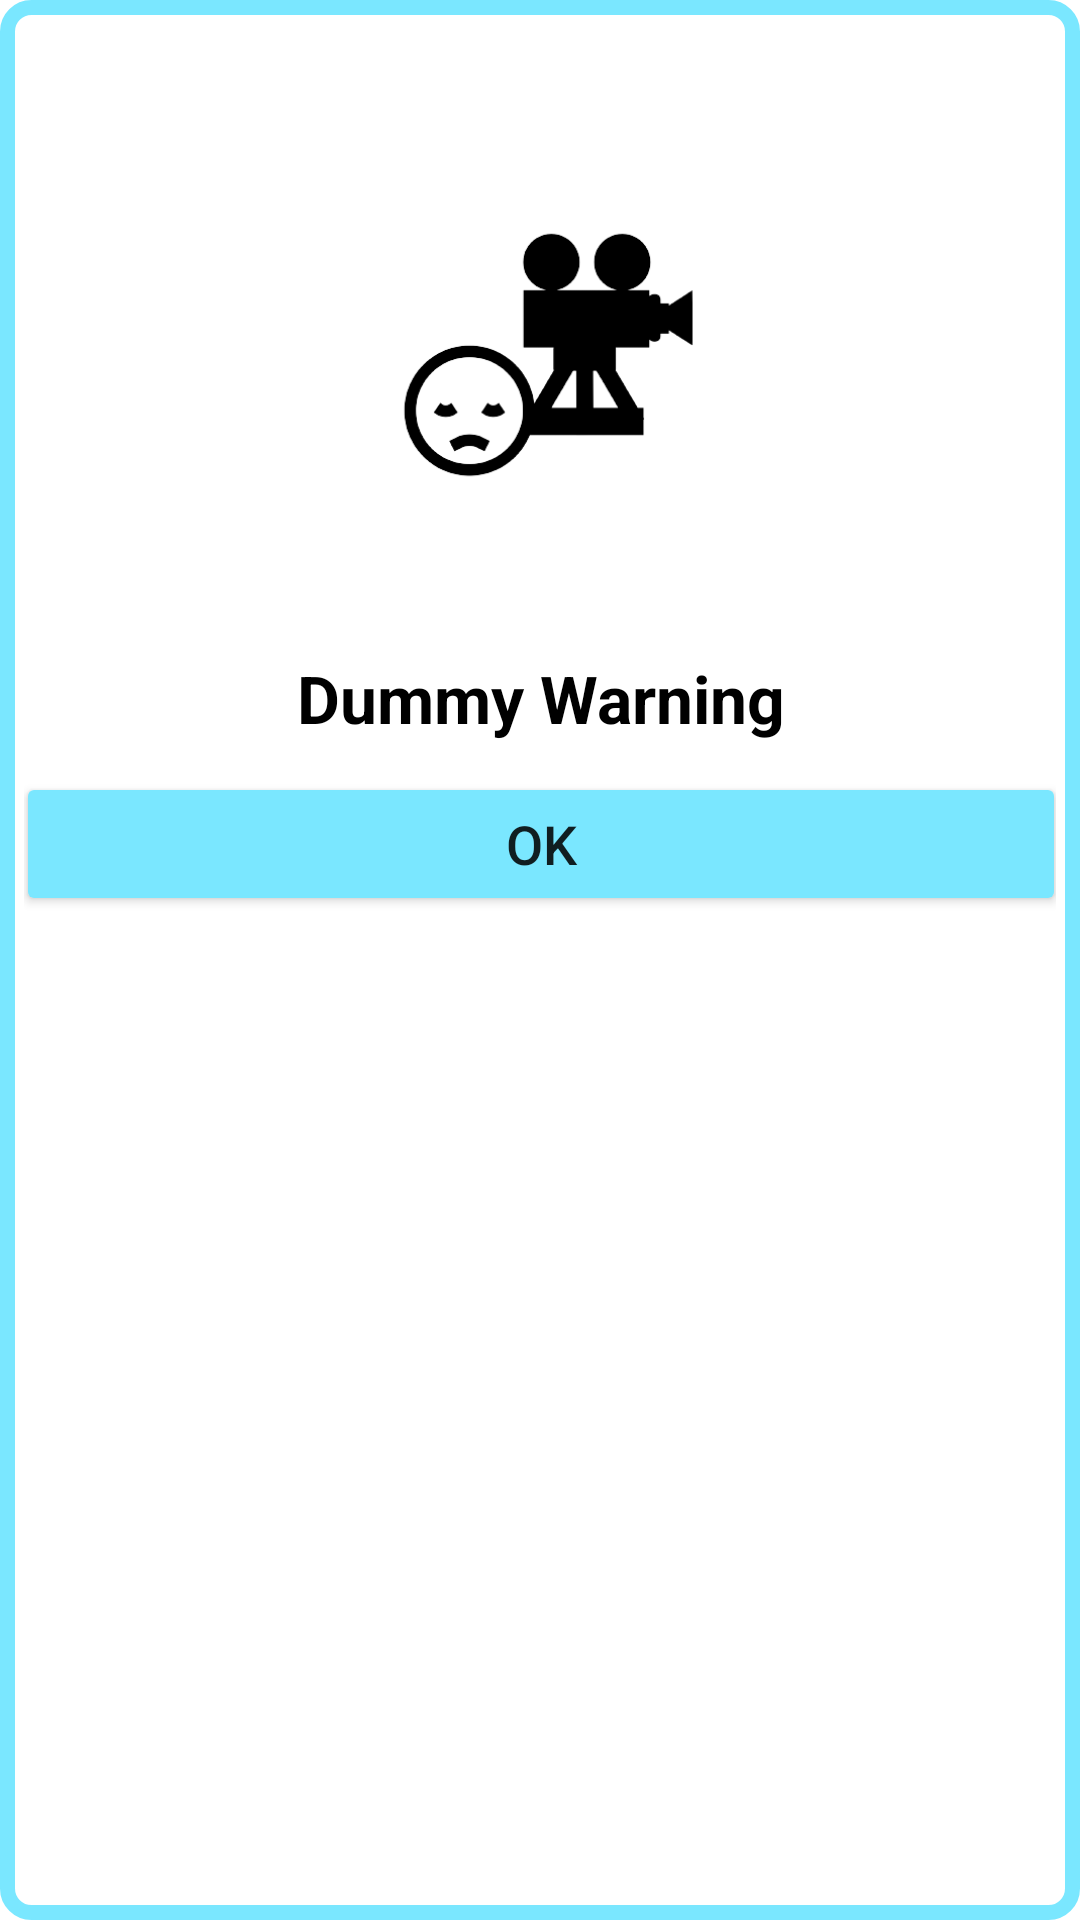

Named icons in this screenshot (1080w x 1920h) and their centers, (x=x, y=y):
movie sad: (x=548, y=355)
